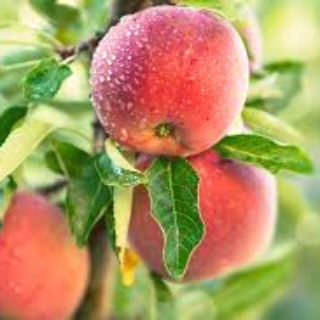tao: (87, 4, 253, 160)
